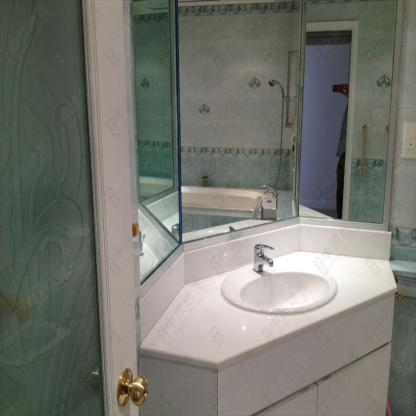Faucet: (241, 240, 278, 272)
Toilet Sink: (220, 262, 339, 315)
